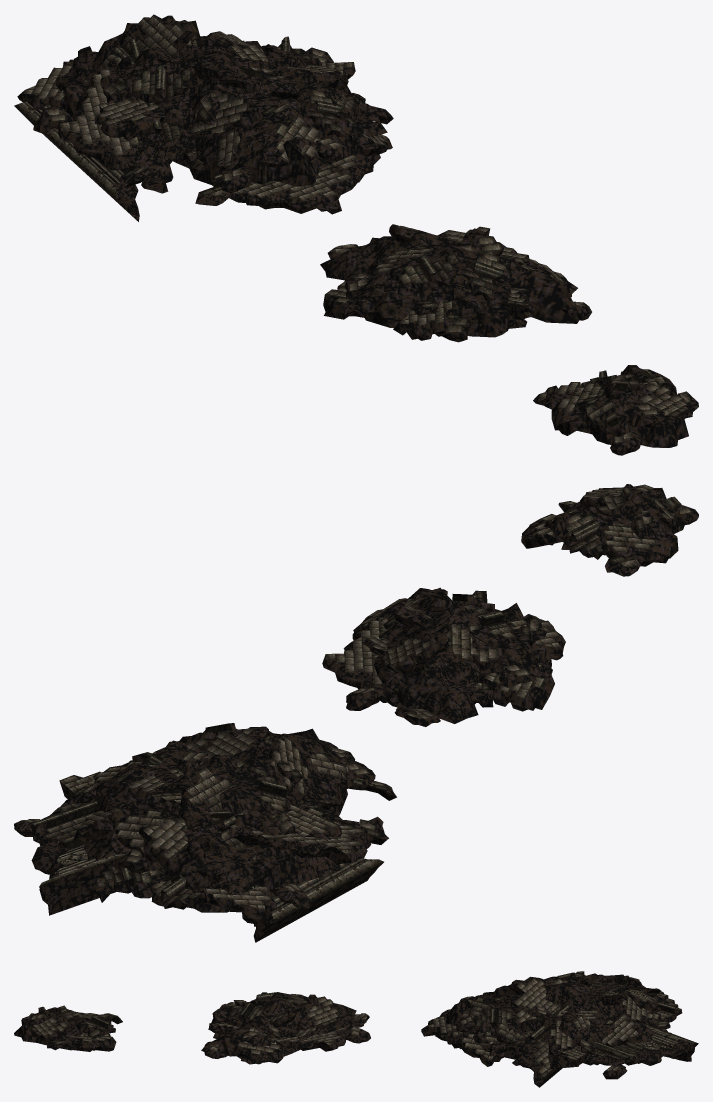
Rendered from EnvMdrMD_Daiseidou_B_Debris_A.FBX.
3 renders of one model, top to bottom at view 1: azimuth 30°, elevation 25°; view 2: azimuth 150°, elevation 25°; view 3: azimuth 270°, elevation 25°, orthographic. The views are drawn at different scales.
Visible parts, largest first — view 1: EnvMdrMD_Daiseidou_B_Debris_A, EnvMdrMD_Daiseidou_B_Debris_B, EnvMdrMD_Daiseidou_B_Debris_C; view 2: EnvMdrMD_Daiseidou_B_Debris_A, EnvMdrMD_Daiseidou_B_Debris_B, EnvMdrMD_Daiseidou_B_Debris_C; view 3: EnvMdrMD_Daiseidou_B_Debris_A, EnvMdrMD_Daiseidou_B_Debris_B, EnvMdrMD_Daiseidou_B_Debris_C.
Part boxes in pixels (box(x1,y1,x2,y2)): EnvMdrMD_Daiseidou_B_Debris_A: box(14, 14, 393, 221); EnvMdrMD_Daiseidou_B_Debris_B: box(320, 224, 591, 342); EnvMdrMD_Daiseidou_B_Debris_C: box(533, 365, 698, 455); EnvMdrMD_Daiseidou_B_Debris_A: box(14, 723, 396, 942); EnvMdrMD_Daiseidou_B_Debris_B: box(322, 587, 565, 726); EnvMdrMD_Daiseidou_B_Debris_C: box(521, 484, 698, 576); EnvMdrMD_Daiseidou_B_Debris_A: box(421, 971, 698, 1087); EnvMdrMD_Daiseidou_B_Debris_B: box(201, 992, 370, 1064); EnvMdrMD_Daiseidou_B_Debris_C: box(14, 1005, 122, 1051).
Size of the model in its own units: 974 by 394 by 3080.
